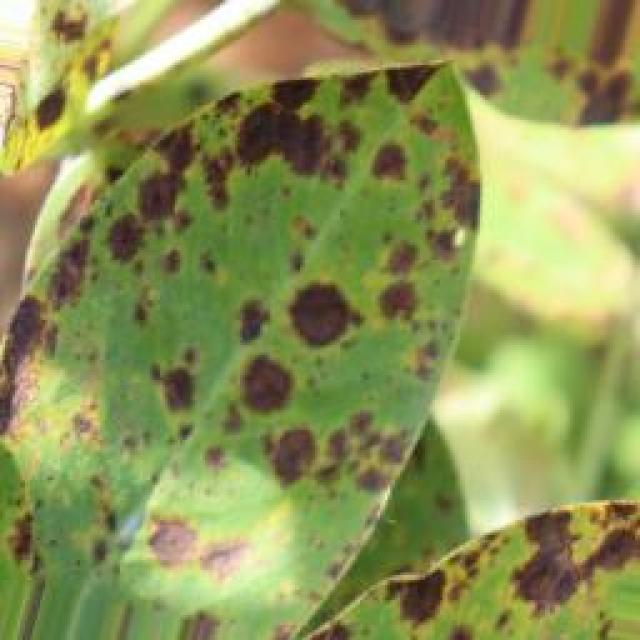Yellowish: (20, 42, 640, 595)
